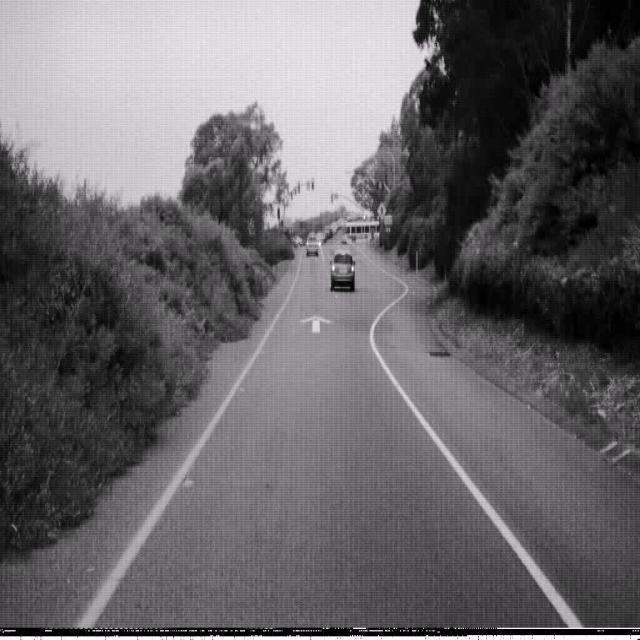pedestrianCrossing: (376, 200, 387, 221)
